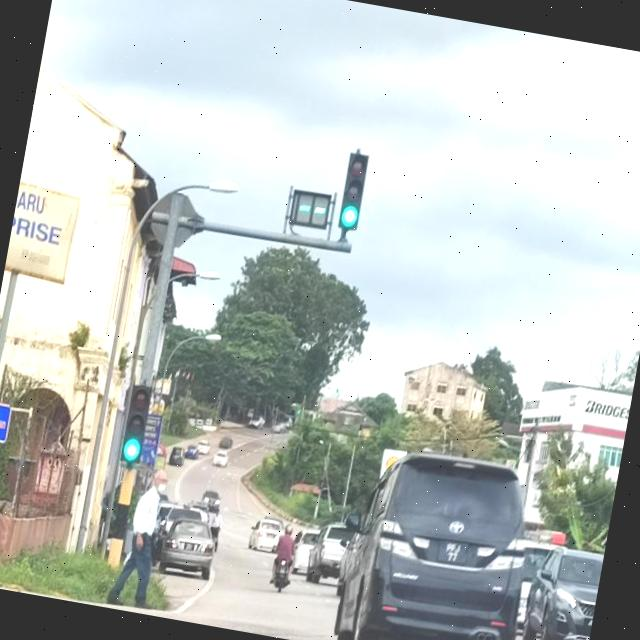green_light: (118, 382, 153, 464), (336, 150, 369, 230)
